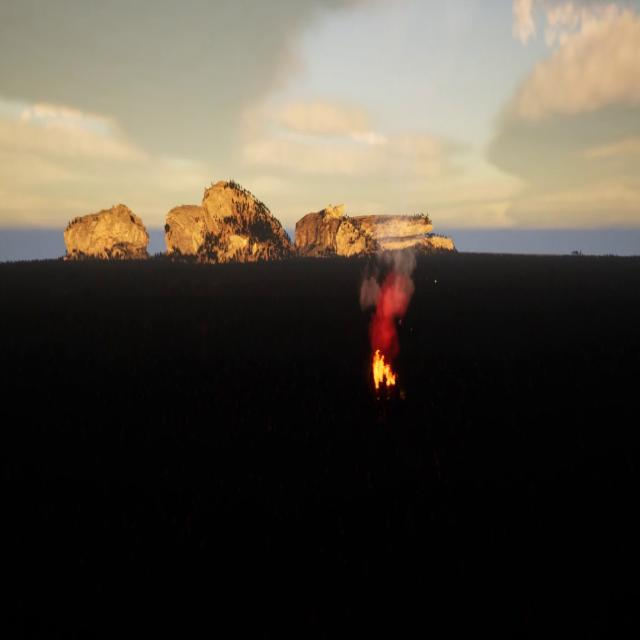fire: (372, 346, 394, 392)
smoke: (359, 245, 414, 356)
